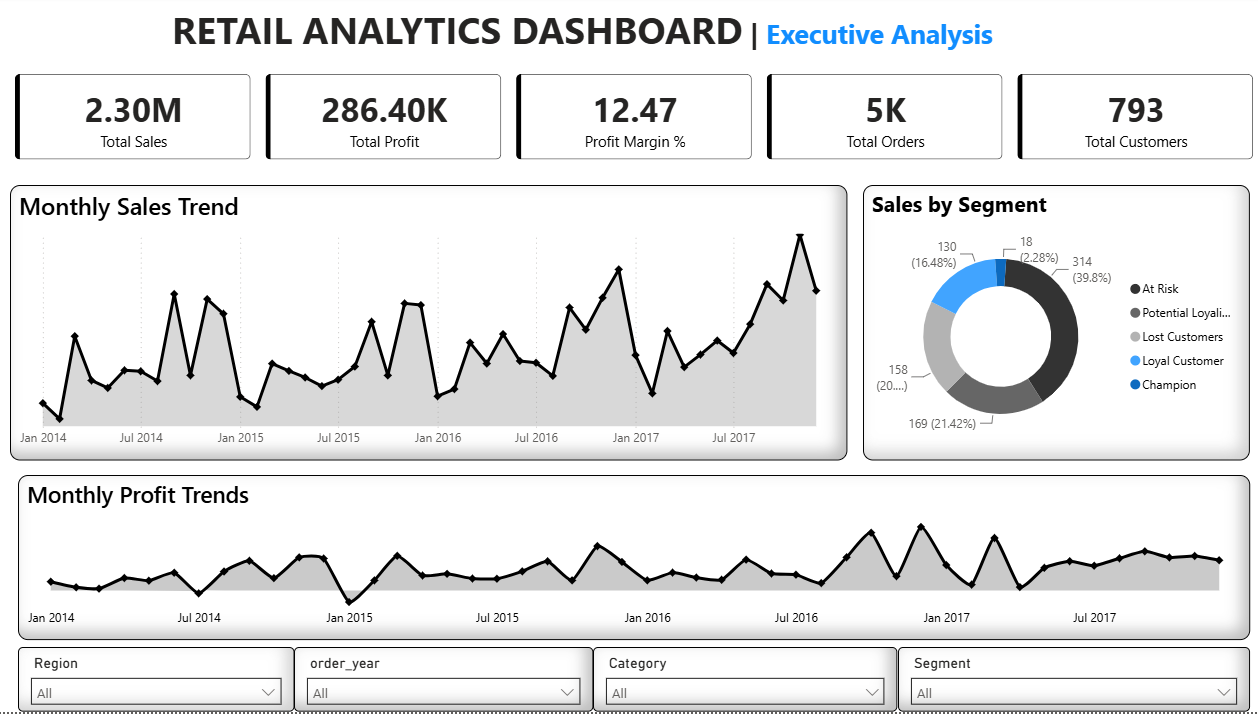

Layout of this report page (visuals, bound fields, positions):
{"tool":"powerbi","page":{"name":"Executive Summary","canvas":[1280,720],"ordinal":0},"visuals":[{"type":"lineChart","title":"Monthly Sales Trend","fields":{"Y":["sales_data.Total Sales"],"Category":["sales_data.Order Date.Variation.Date Hierarchy.Year","sales_data.Order Date.Variation.Date Hierarchy.Quarter","sales_data.Order Date.Variation.Date Hierarchy.Month"]},"box":[12.1,190,841.6,276.5],"z":0},{"type":"lineChart","title":"Monthly Profit Trends","fields":{"Y":["sales_data.Total Profit"],"Category":["sales_data.Order Date.Variation.Date Hierarchy.Year","sales_data.Order Date.Variation.Date Hierarchy.Month"]},"box":[20.1,481.6,1238.8,165.9],"z":1000},{"type":"donutChart","title":"Sales by Segment","fields":{"Category":["rfmdf_analysis.Segment"],"Y":["CountNonNull(rfmdf_analysis.Customer ID)"]},"box":[869.8,190,389.1,276.5],"z":2000},{"type":"textbox","box":[169.9,3,855.7,64.4],"z":3000},{"type":"cardVisual","fields":{"Data":["sales_data.Total Sales","sales_data.Total Profit","sales_data.Profit Margin %","sales_data.Total Orders","sales_data.Total Customers"]},"box":[0,61.3,1280,120.7],"z":4000},{"type":"slicer","fields":{"Values":["sales_data.Region"]},"box":[20.1,654.6,277.5,65.4],"z":5000},{"type":"slicer","fields":{"Values":["sales_data.order_year"]},"box":[297.6,654.6,300.6,65.4],"z":6000},{"type":"slicer","fields":{"Values":["sales_data.Category"]},"box":[598.5,654.7,306.5,65.3],"z":7000},{"type":"slicer","fields":{"Values":["rfmdf_analysis.Segment"]},"box":[905,654.7,353.7,65.3],"z":8000}]}

Visuals, with their boxes in screenshot pixels (x1, y1, x2, y2), scaled from the page's 1280x720 canvas onto the 1258x715 screenshot:
"Monthly Sales Trend" lineChart: bbox=[12, 189, 839, 463]
"Monthly Profit Trends" lineChart: bbox=[20, 478, 1237, 643]
"Sales by Segment" donutChart: bbox=[855, 189, 1237, 463]
textbox: bbox=[167, 3, 1008, 67]
cardVisual - sales_data.Total Sales x sales_data.Total Profit: bbox=[0, 61, 1257, 181]
slicer - sales_data.Region: bbox=[20, 650, 292, 714]
slicer - sales_data.order_year: bbox=[292, 650, 588, 714]
slicer - sales_data.Category: bbox=[588, 650, 889, 714]
slicer - rfmdf_analysis.Segment: bbox=[889, 650, 1237, 714]
